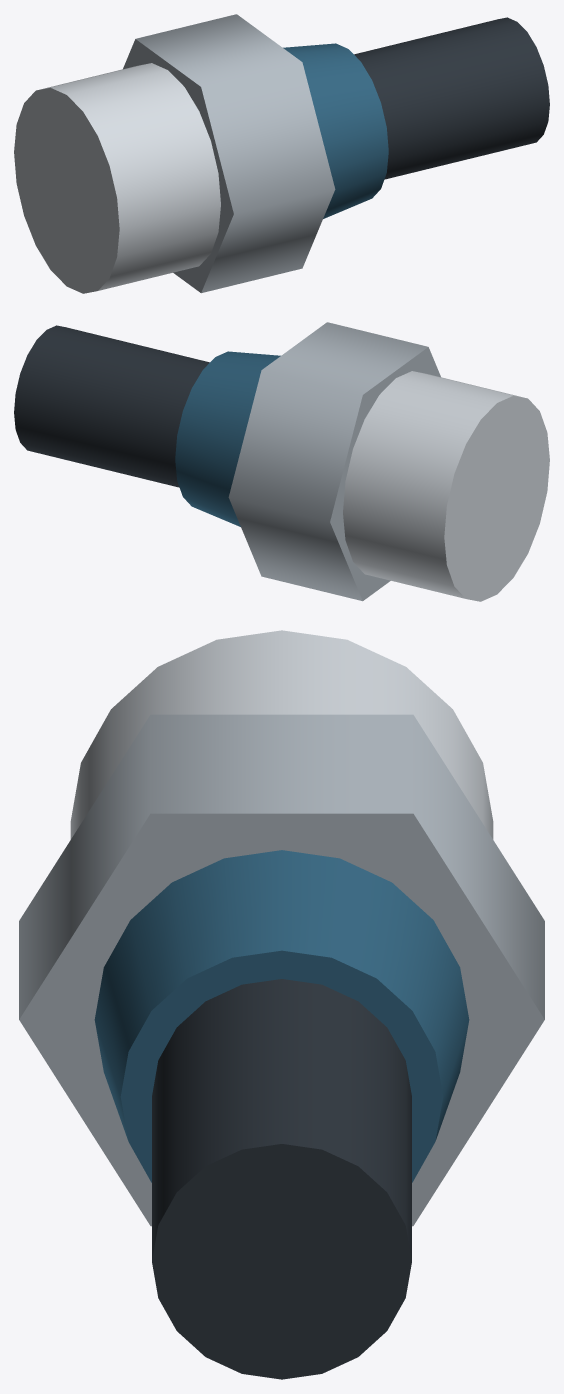
The model's file is SPV-082-02.glb.
3 views of the same model, one above another, from view 1: azimuth 30°, elevation 25°; view 2: azimuth 150°, elevation 25°; view 3: azimuth 270°, elevation 25° (orthographic). The views are drawn at different scales.
Visible parts, largest first — view 1: 外螺纹, 接头本体, 接管示意, 快插卡套; view 2: 外螺纹, 接头本体, 接管示意, 快插卡套; view 3: 接头本体, 接管示意, 快插卡套, 外螺纹.
Part boxes in pixels (bbox=[...]): 外螺纹: bbox=[14, 63, 220, 293]; 接头本体: bbox=[123, 14, 335, 293]; 接管示意: bbox=[354, 17, 549, 179]; 快插卡套: bbox=[283, 43, 388, 218]; 外螺纹: bbox=[343, 371, 549, 601]; 接头本体: bbox=[228, 322, 440, 601]; 接管示意: bbox=[14, 325, 209, 487]; 快插卡套: bbox=[175, 351, 280, 526]; 接头本体: bbox=[19, 714, 544, 1226]; 接管示意: bbox=[152, 979, 411, 1379]; 快插卡套: bbox=[94, 850, 469, 1182]; 外螺纹: bbox=[70, 630, 493, 839].
Bounding box in the file's own units: 0.032 × 0.014 × 0.0162.
